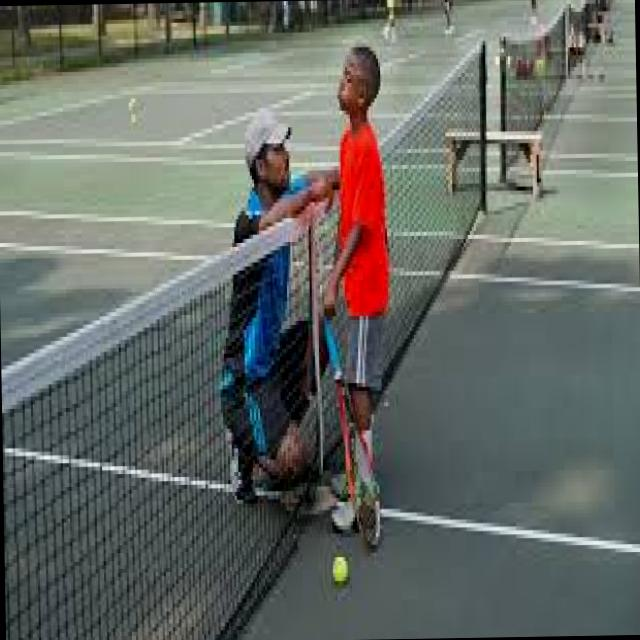Tennis Ball: (332, 556, 349, 584)
